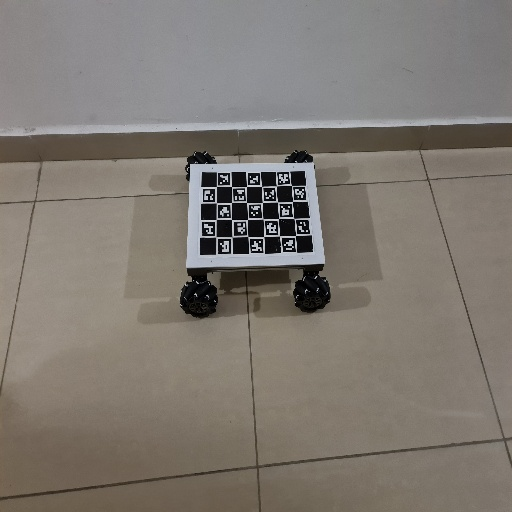Omniwheel: (179, 150, 332, 319)
